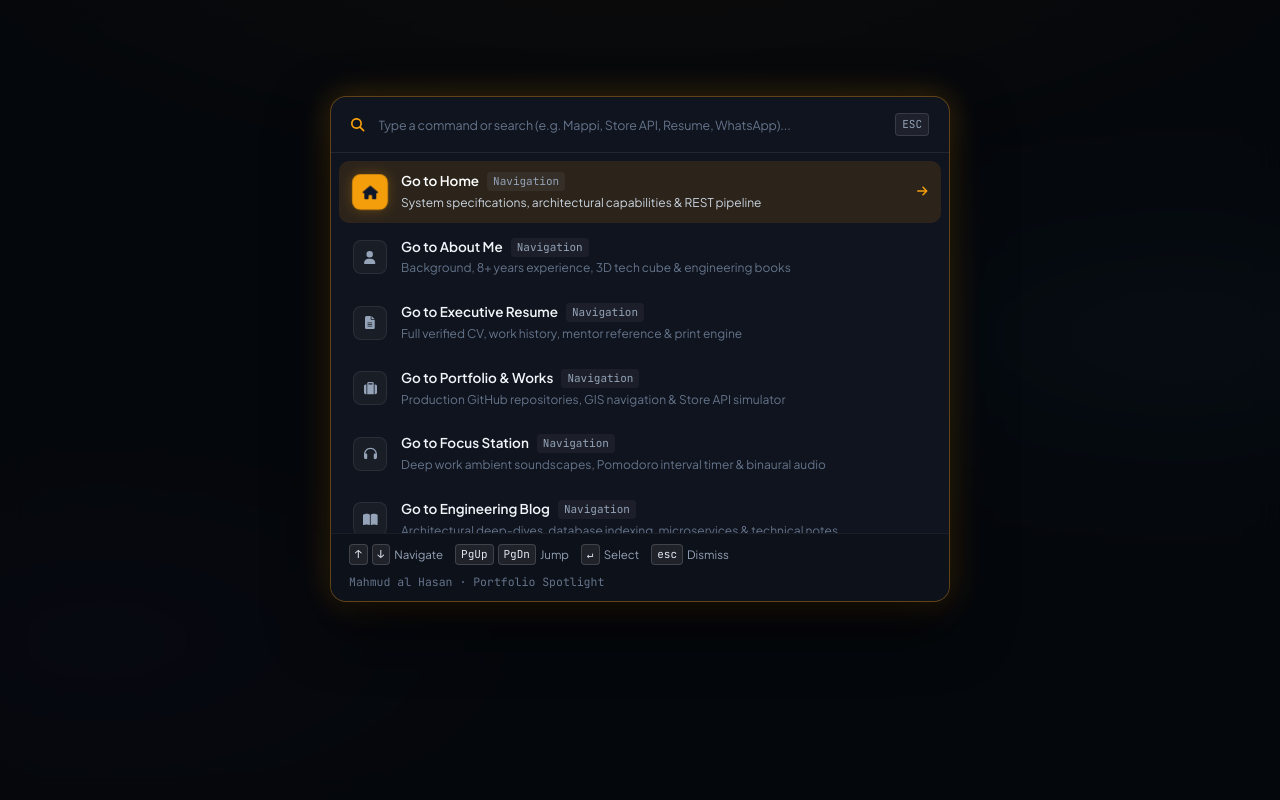
Scenario: CommandPalette Component › searches and finds engineering blog articles in command palette
Replace the text in the dropdown named "Command search" with "RabbitMQ" at (630,124), box [376, 115, 883, 134]
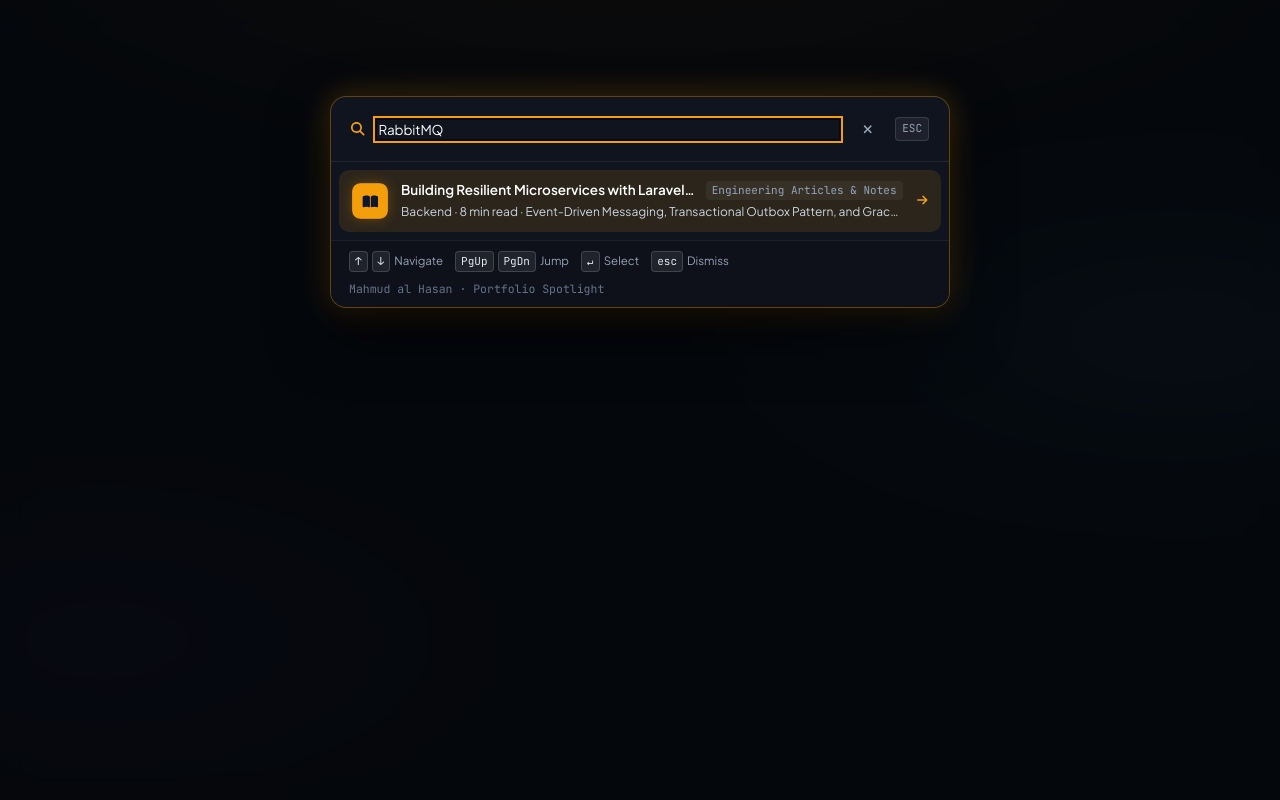
Expected: the text "Building Resilient Microservices with Laravel" is shown, [401, 181, 818, 198]
